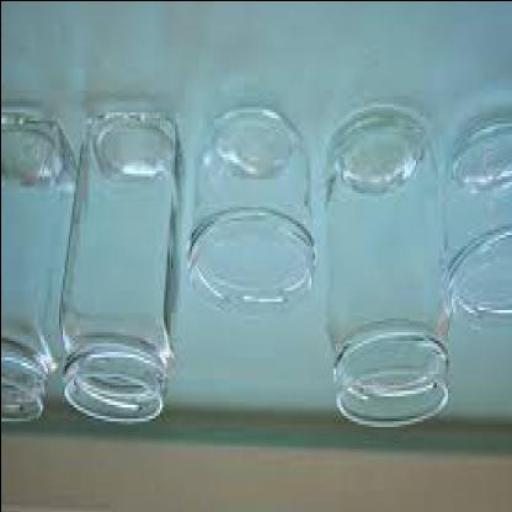glass: (328, 104, 454, 428), (60, 111, 182, 426), (190, 108, 316, 320), (2, 114, 78, 426), (447, 113, 511, 335)
